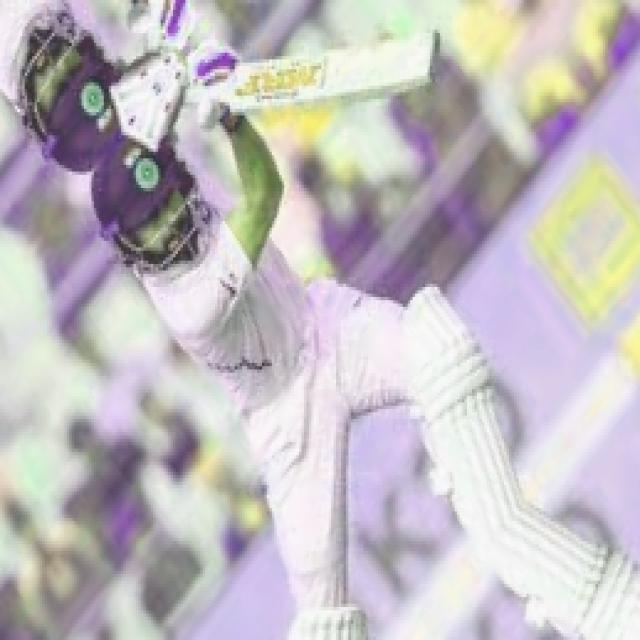toe: (373, 26, 444, 90)
